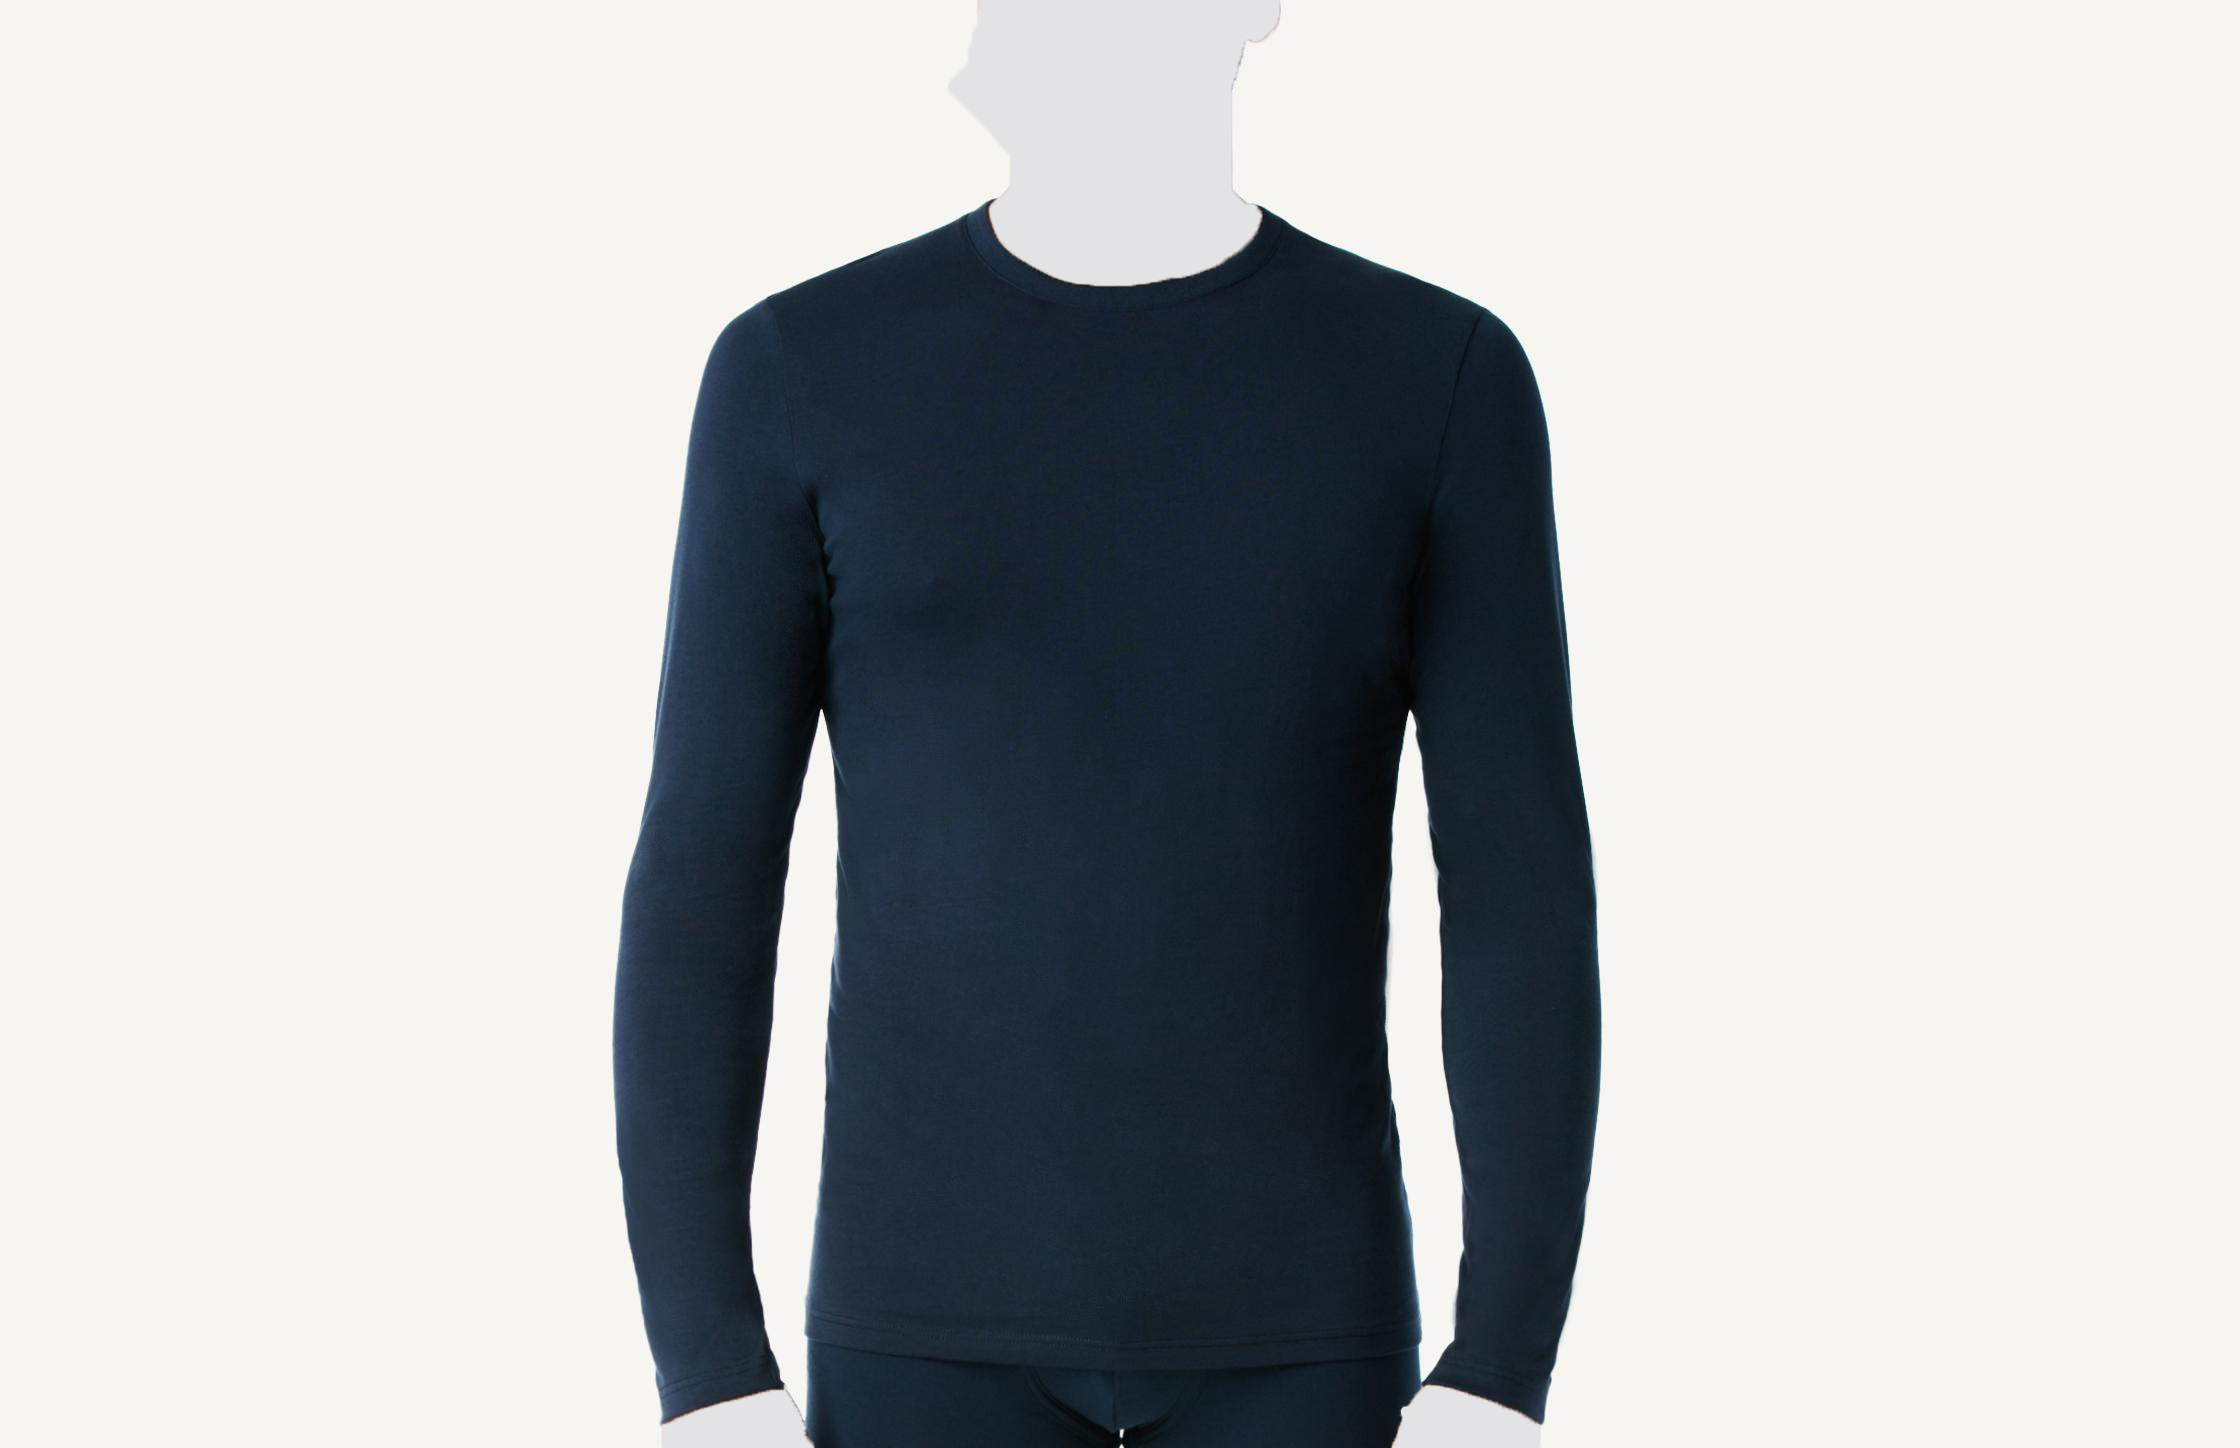teeshirt: (573, 189, 1631, 1448)
